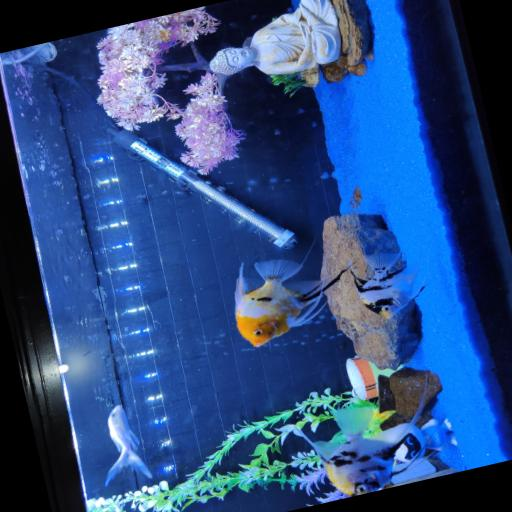Fish: (294, 380, 427, 496), (235, 259, 347, 346), (351, 252, 424, 317), (105, 404, 152, 484)
